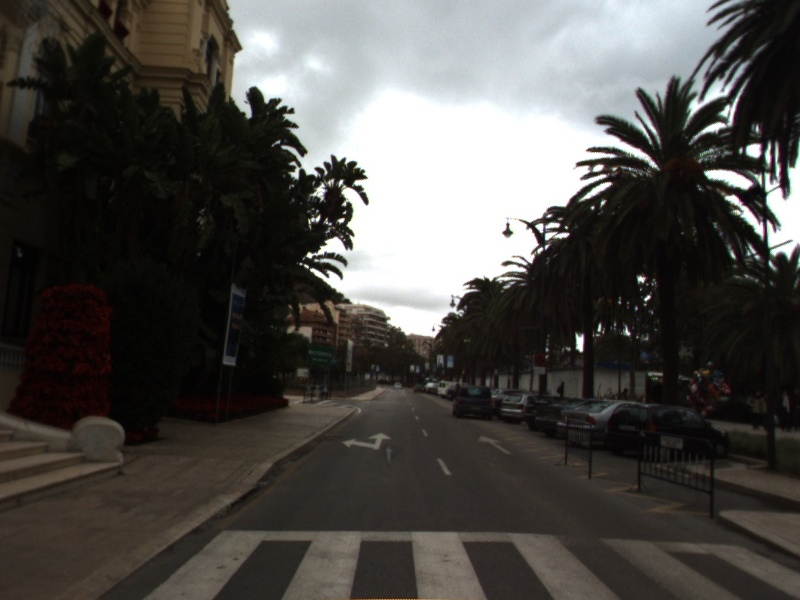STRAIGHT: (475, 433, 514, 457)
STRAIGHT_LEFT: (340, 431, 395, 452)
